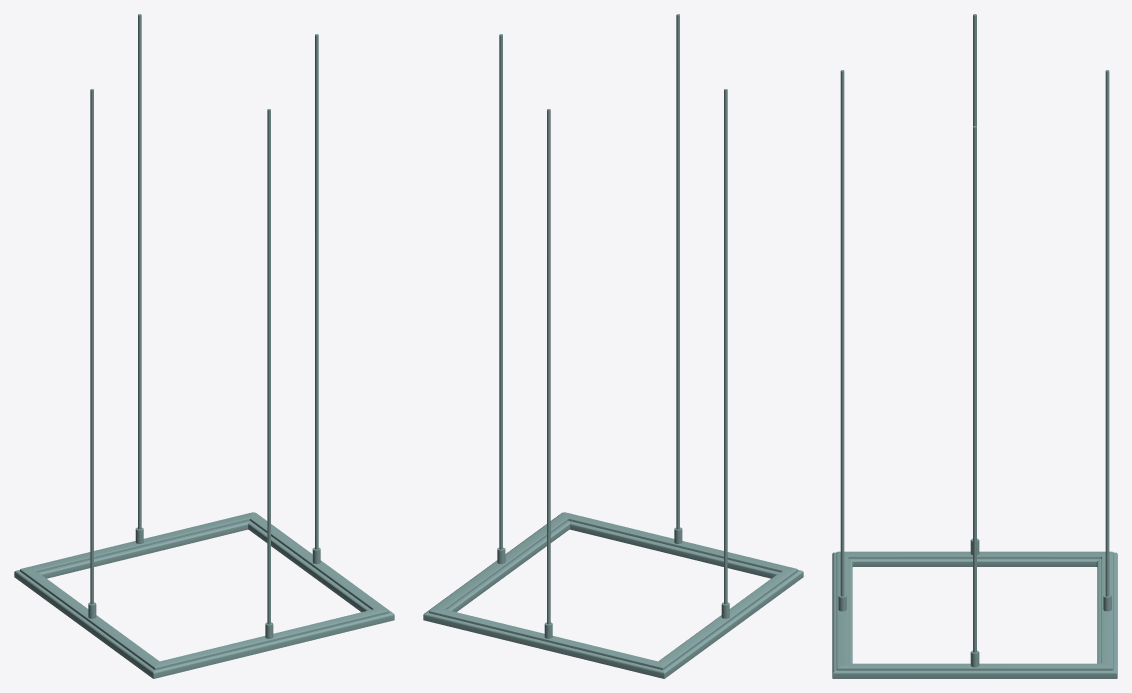
File: square_lamp.fbx
The picture shows the model from 3 angles, left to right: view 1: azimuth 30°, elevation 25°; view 2: azimuth 150°, elevation 25°; view 3: azimuth 270°, elevation 25°; orthographic projection. The views are drawn at different scales.
Visible parts, largest first — view 1: square_lamp; view 2: square_lamp; view 3: square_lamp.
Boxes of the visible parts, left/top/right/bottom form: square_lamp: left=14, top=14, right=394, bottom=678; square_lamp: left=423, top=14, right=803, bottom=678; square_lamp: left=832, top=14, right=1117, bottom=678.
Bounding box in the file's own units: 140 × 297 × 140.
